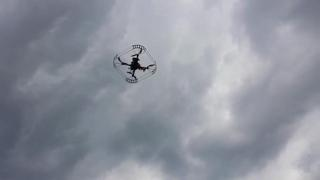UAV: (113, 45, 157, 84)
